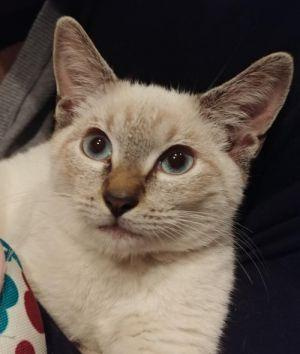siamese: (48, 10, 300, 269)
